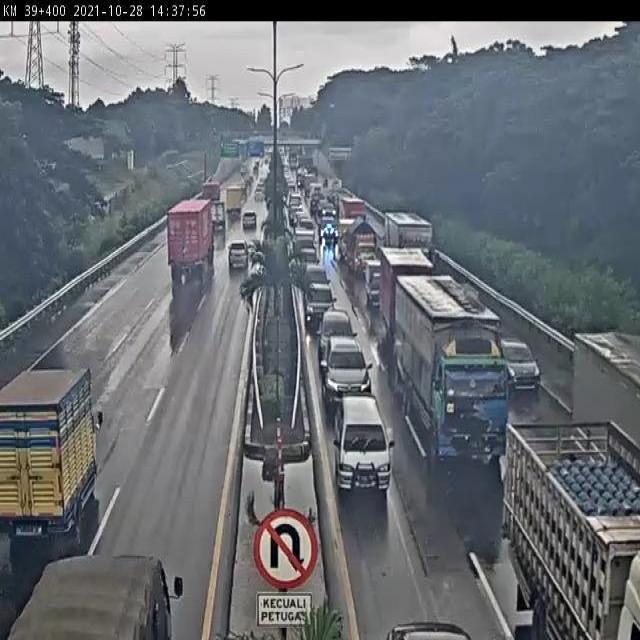car: (330, 390, 400, 494), (317, 328, 374, 399), (494, 331, 540, 392), (310, 308, 352, 341), (307, 281, 340, 319), (223, 237, 246, 279), (242, 211, 258, 235)
truck: (493, 406, 640, 640), (0, 359, 130, 563), (397, 268, 506, 468), (162, 197, 211, 292), (226, 184, 244, 217), (201, 177, 222, 203)
